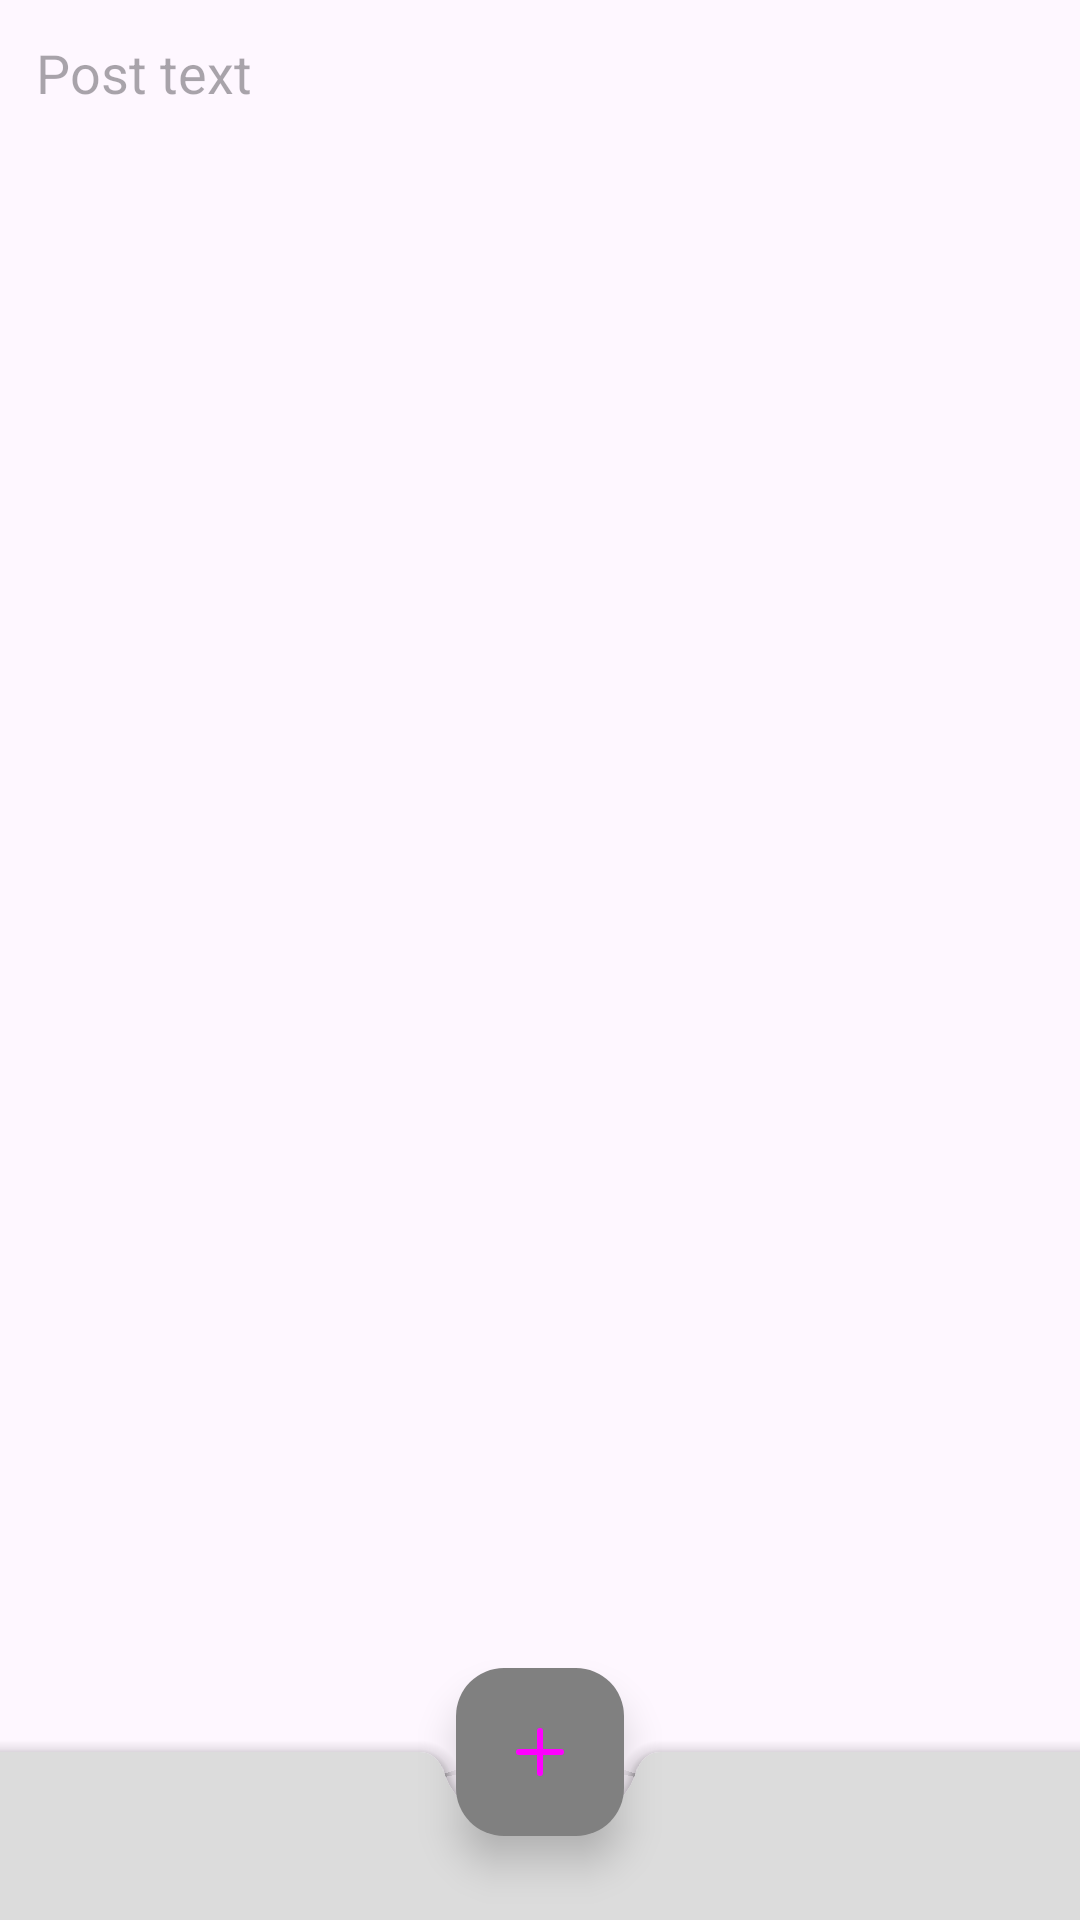

Icon click points for this 1080×1920 phone screenshot, format point (x, y):
add: point (540, 1752)
